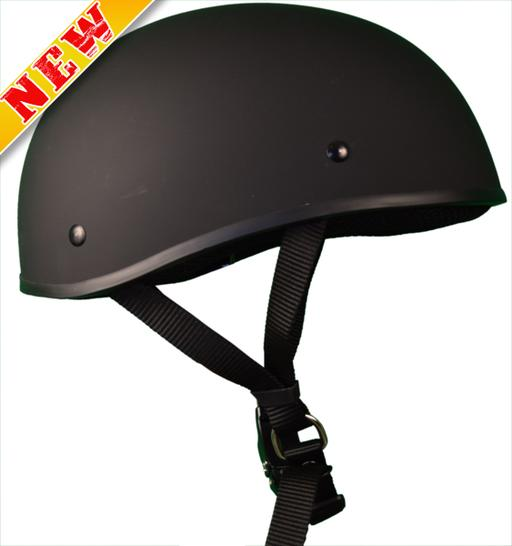with_helmet: (16, 2, 512, 316)
